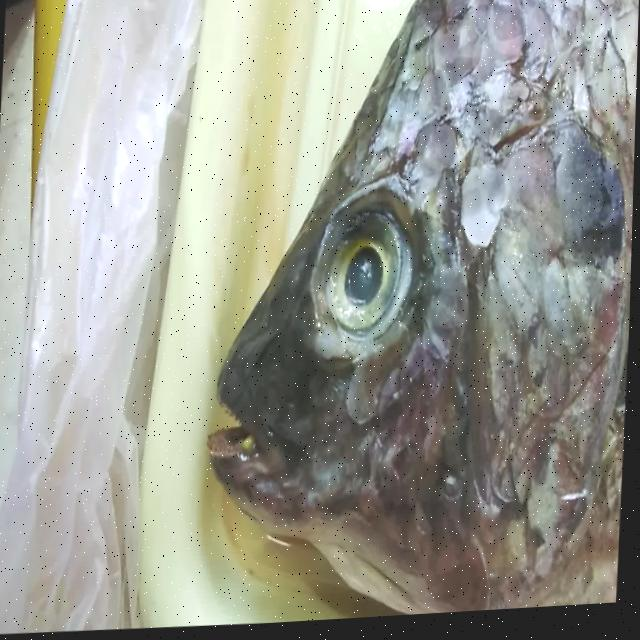Non-Fresh: (273, 137, 461, 505)
